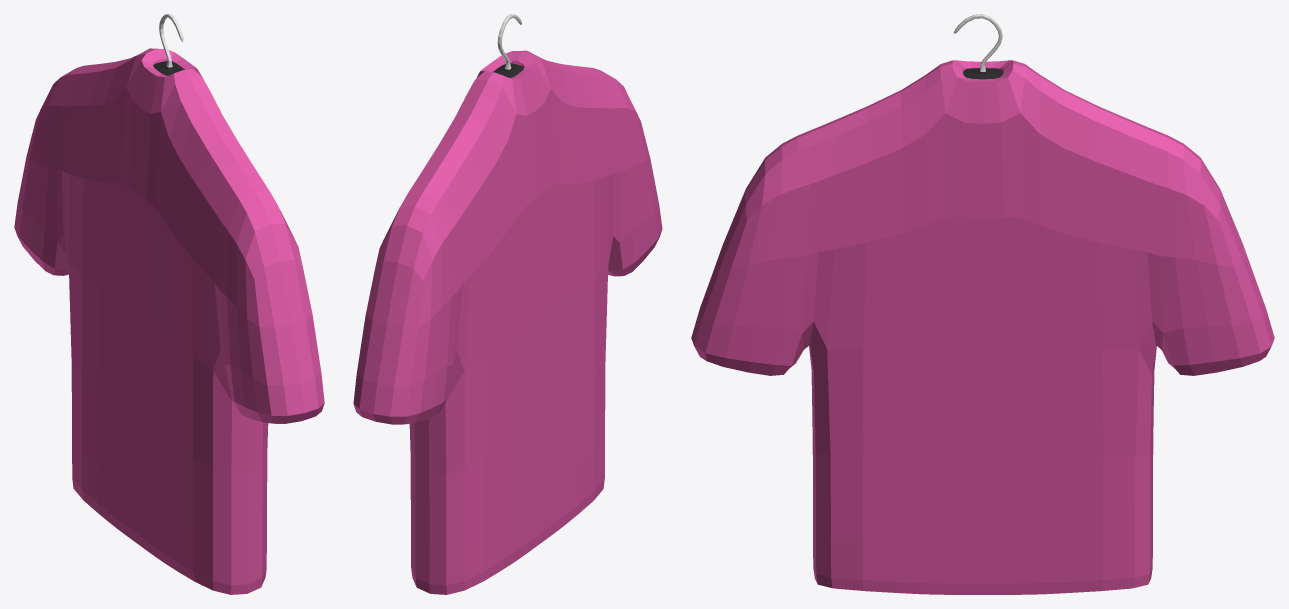
Rendered from Buegel mit Kleidung.fbx.
3 renders of one model, left to right at view 1: azimuth 30°, elevation 25°; view 2: azimuth 150°, elevation 25°; view 3: azimuth 270°, elevation 25°, orthographic. The views are drawn at different scales.
Parts seen in each view (by area): view 1: Kleidung, Buegel; view 2: Kleidung, Buegel; view 3: Kleidung, Buegel.
Boxes of the visible parts, left/top/right/bottom form: Kleidung: left=14, top=48, right=324, bottom=594; Buegel: left=153, top=14, right=184, bottom=75; Kleidung: left=353, top=50, right=662, bottom=594; Buegel: left=493, top=14, right=523, bottom=77; Kleidung: left=691, top=60, right=1274, bottom=594; Buegel: left=954, top=14, right=1002, bottom=79.
Size of the model in its own units: 7.99 by 61.72 by 57.74.
